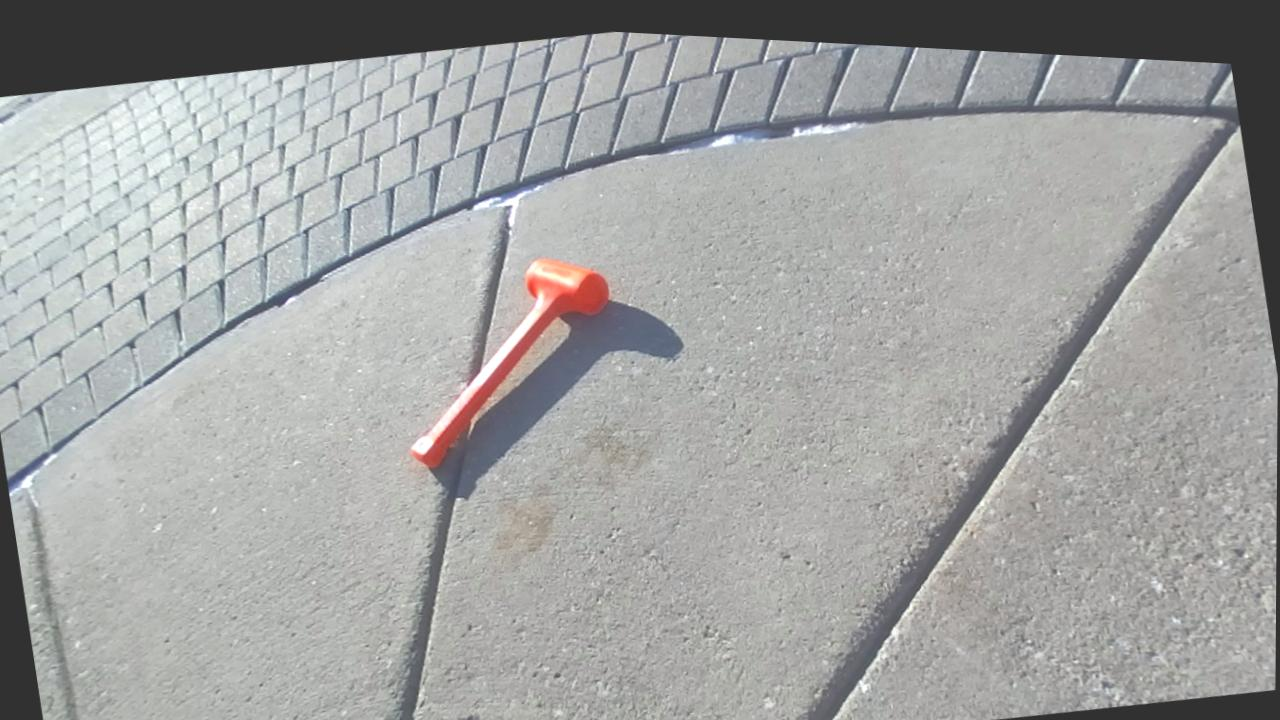mallet: (410, 257, 609, 465)
